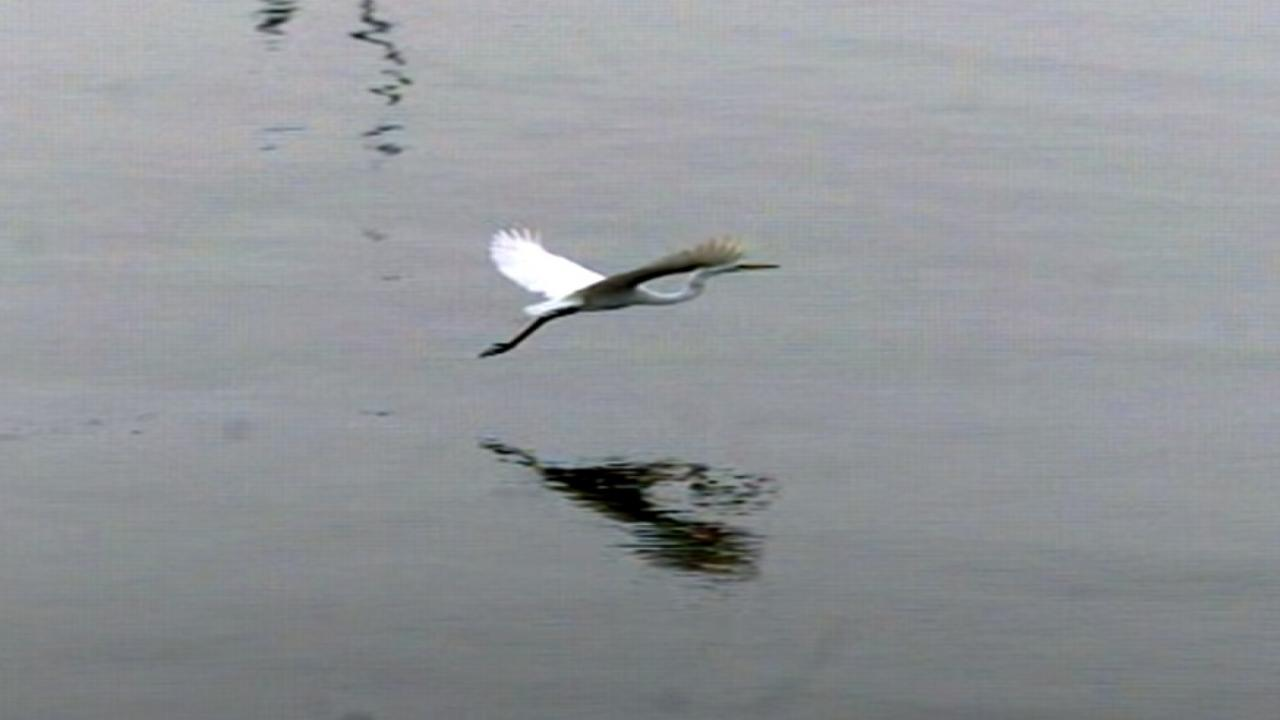Bird: (470, 221, 788, 373)
